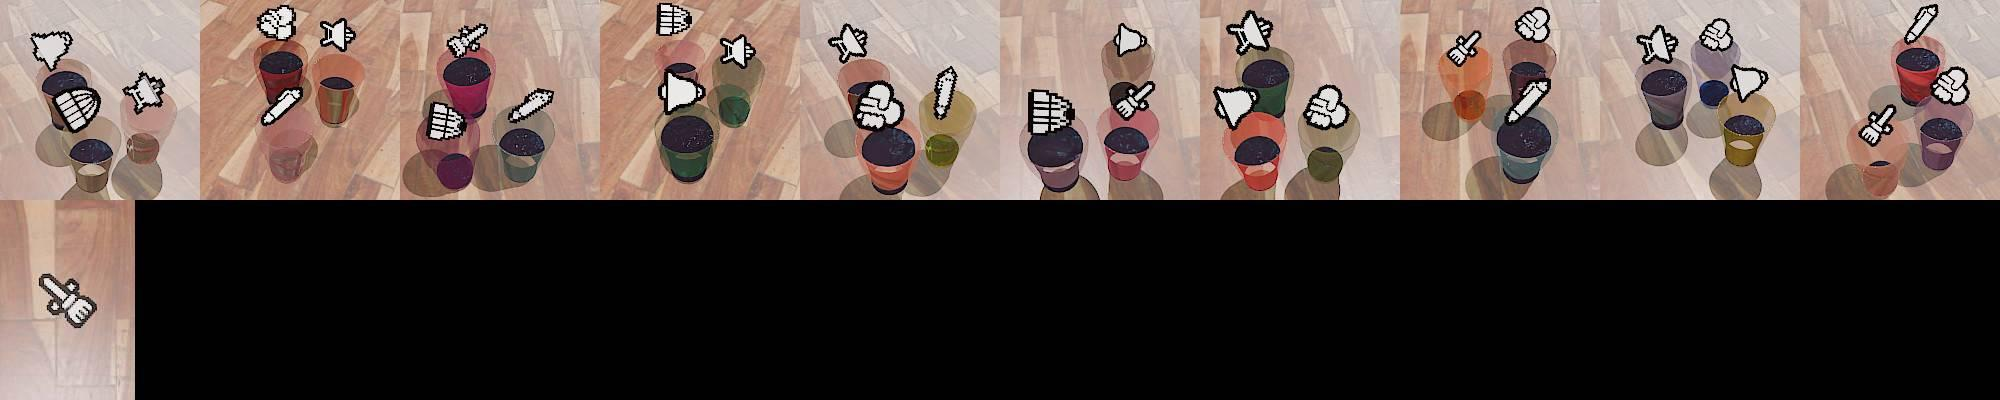icon: (40, 273, 101, 329), (851, 80, 903, 130), (50, 85, 101, 134), (658, 66, 707, 115), (1028, 87, 1075, 134), (1304, 83, 1351, 129), (1227, 10, 1273, 57), (1506, 76, 1552, 122), (1213, 84, 1259, 129), (1110, 78, 1157, 121), (124, 71, 167, 113), (1636, 23, 1680, 65), (28, 29, 73, 70), (506, 87, 555, 124), (1858, 103, 1898, 146), (828, 22, 869, 62), (1931, 65, 1971, 107), (261, 85, 304, 125), (256, 4, 297, 42), (445, 22, 487, 59), (427, 99, 464, 141), (1730, 64, 1768, 103), (1903, 3, 1939, 45), (718, 32, 756, 70), (931, 65, 958, 118), (1514, 6, 1552, 43), (656, 1, 694, 37), (1446, 29, 1482, 66), (320, 17, 356, 54), (1114, 22, 1148, 57), (1700, 18, 1733, 51)
